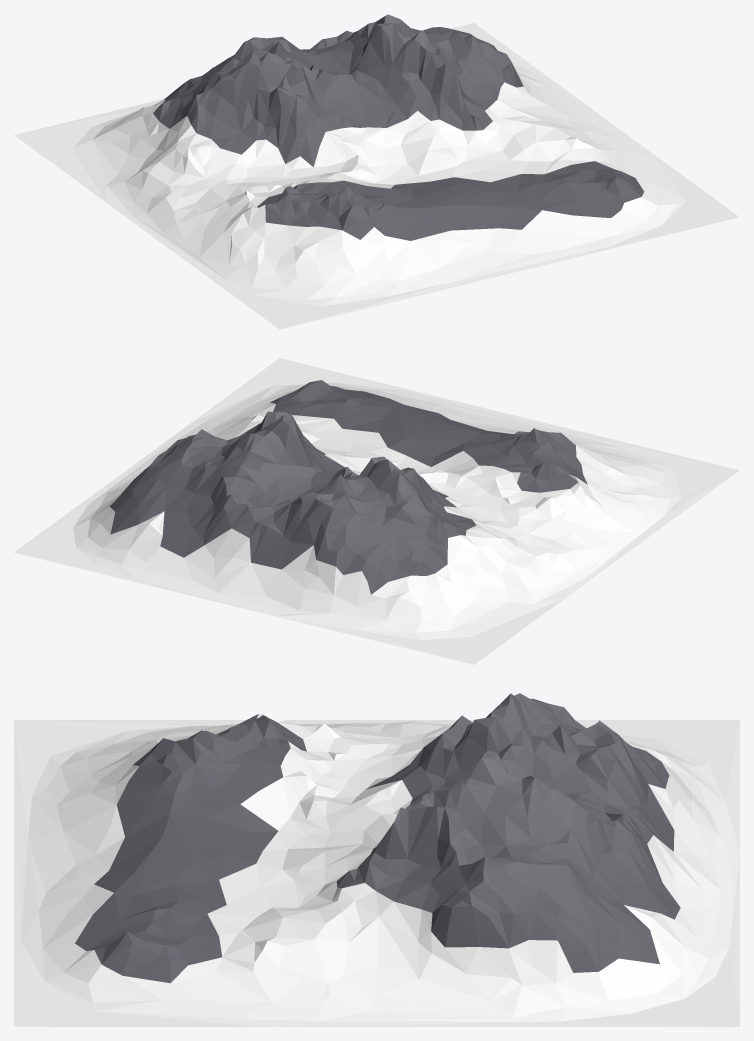
The model's file is Landscape_08.fbx.
3 renders of one model, top to bottom at view 1: azimuth 30°, elevation 25°; view 2: azimuth 150°, elevation 25°; view 3: azimuth 270°, elevation 25°, orthographic. The views are drawn at different scales.
Visible parts, largest first — view 1: Landscape_08; view 2: Landscape_08; view 3: Landscape_08.
Boxes of the visible parts, left/top/right/bottom form: Landscape_08: left=14, top=14, right=739, bottom=329; Landscape_08: left=14, top=358, right=739, bottom=664; Landscape_08: left=14, top=693, right=739, bottom=1026.
Size of the model in its own units: 10000 by 2314 by 10000.
